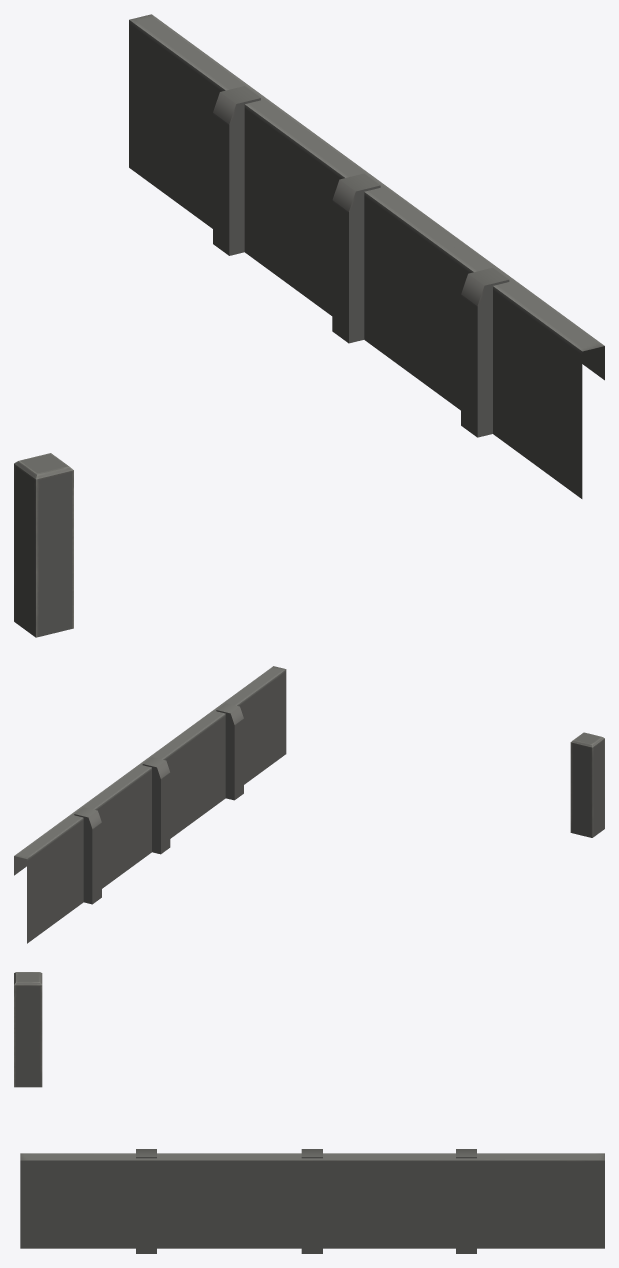
The model's file is pirs2.fbx.
The picture shows the model from 3 angles, top to bottom: view 1: azimuth 30°, elevation 25°; view 2: azimuth 150°, elevation 25°; view 3: azimuth 270°, elevation 25°; orthographic projection. The views are drawn at different scales.
Parts seen in each view (by area): view 1: pirs2, pirs3; view 2: pirs2, pirs3; view 3: pirs2, pirs3.
Boxes of the visible parts, bbox=[...] form: pirs2: bbox=[129, 14, 604, 498]; pirs3: bbox=[14, 453, 73, 637]; pirs2: bbox=[14, 666, 286, 943]; pirs3: bbox=[570, 732, 604, 837]; pirs2: bbox=[20, 1149, 604, 1253]; pirs3: bbox=[14, 972, 42, 1087].
Size of the model in its own units: 426 by 114 by 589.
